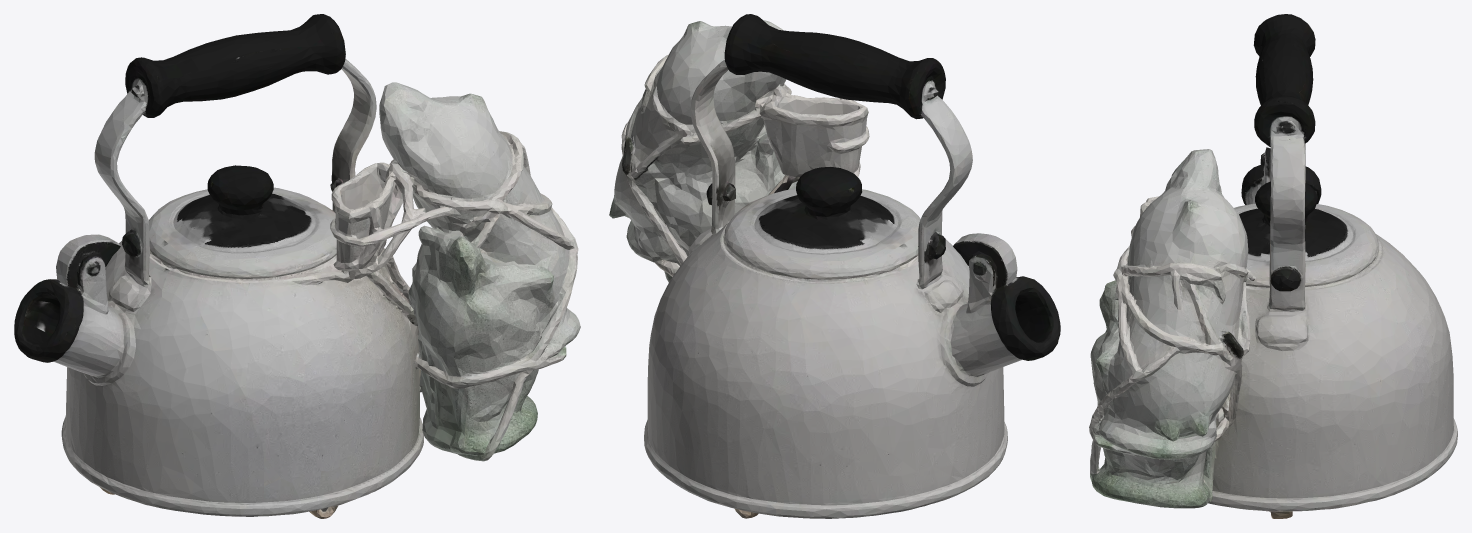
File: chest (189).glb
The picture shows the model from 3 angles, left to right: view 1: azimuth 30°, elevation 25°; view 2: azimuth 150°, elevation 25°; view 3: azimuth 270°, elevation 25°; orthographic projection. The views are drawn at different scales.
Visible parts, largest first — view 1: Hy21_Mesh.obj; view 2: Hy21_Mesh.obj; view 3: Hy21_Mesh.obj.
Part boxes in pixels (x1=…): Hy21_Mesh.obj: x1=14, y1=14, x2=580, y2=518; Hy21_Mesh.obj: x1=609, y1=14, x2=1060, y2=518; Hy21_Mesh.obj: x1=1089, y1=14, x2=1457, y2=518.
Size of the model in its own units: 1.96 by 1.62 by 1.37.
Materials: 1 (1 with a texture image).
